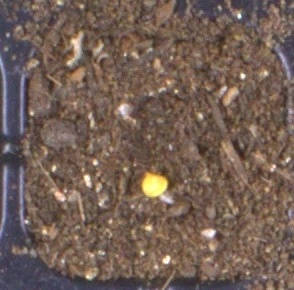chilli seed: (141, 171, 168, 197)
